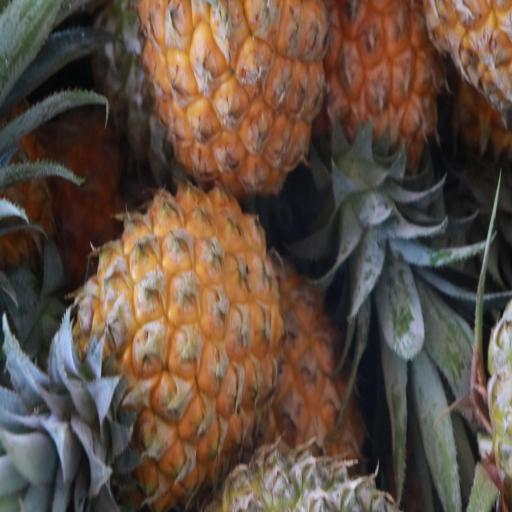Pineapple - v8 v1: (72, 187, 278, 508), (142, 0, 321, 196), (322, 0, 446, 212)
